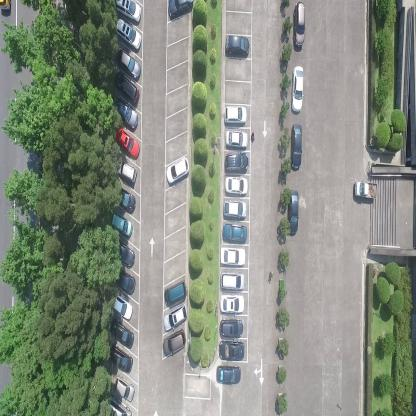car: (114, 47, 141, 81), (113, 70, 139, 104), (112, 96, 138, 130), (115, 18, 142, 50), (115, 126, 140, 159), (108, 318, 134, 349), (162, 302, 188, 332), (166, 155, 190, 185), (109, 344, 133, 374), (162, 328, 187, 356), (286, 187, 300, 235), (292, 0, 306, 48), (164, 278, 187, 307), (291, 65, 304, 113), (115, 158, 138, 184), (111, 212, 134, 238), (116, 0, 143, 22), (114, 186, 136, 213), (112, 294, 134, 321), (115, 241, 136, 269), (290, 122, 302, 170), (225, 33, 249, 57), (216, 364, 242, 386), (115, 268, 136, 295), (114, 376, 135, 402), (218, 340, 245, 360), (224, 104, 247, 127), (225, 152, 249, 174), (165, 0, 193, 18), (220, 294, 245, 314), (219, 319, 244, 339), (220, 272, 246, 291), (353, 179, 377, 199), (108, 395, 132, 415), (222, 224, 247, 243), (221, 247, 246, 266), (225, 129, 248, 149), (224, 199, 247, 219), (224, 177, 248, 195)
